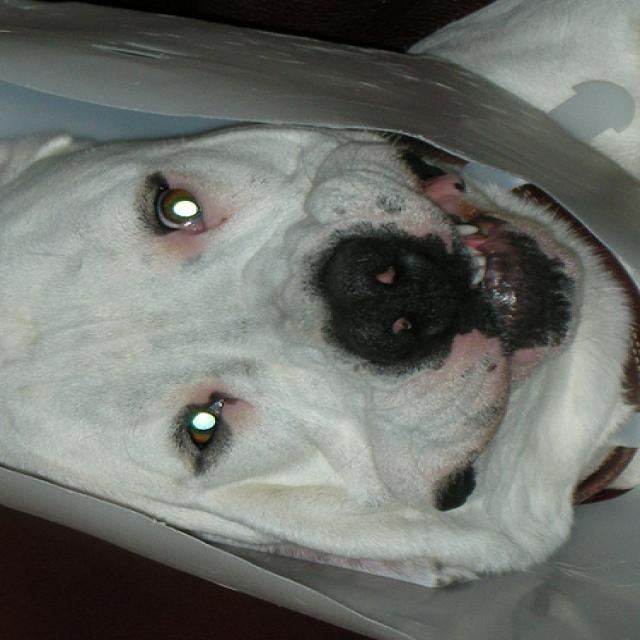dog-american_bulldog: (398, 1, 637, 191)
